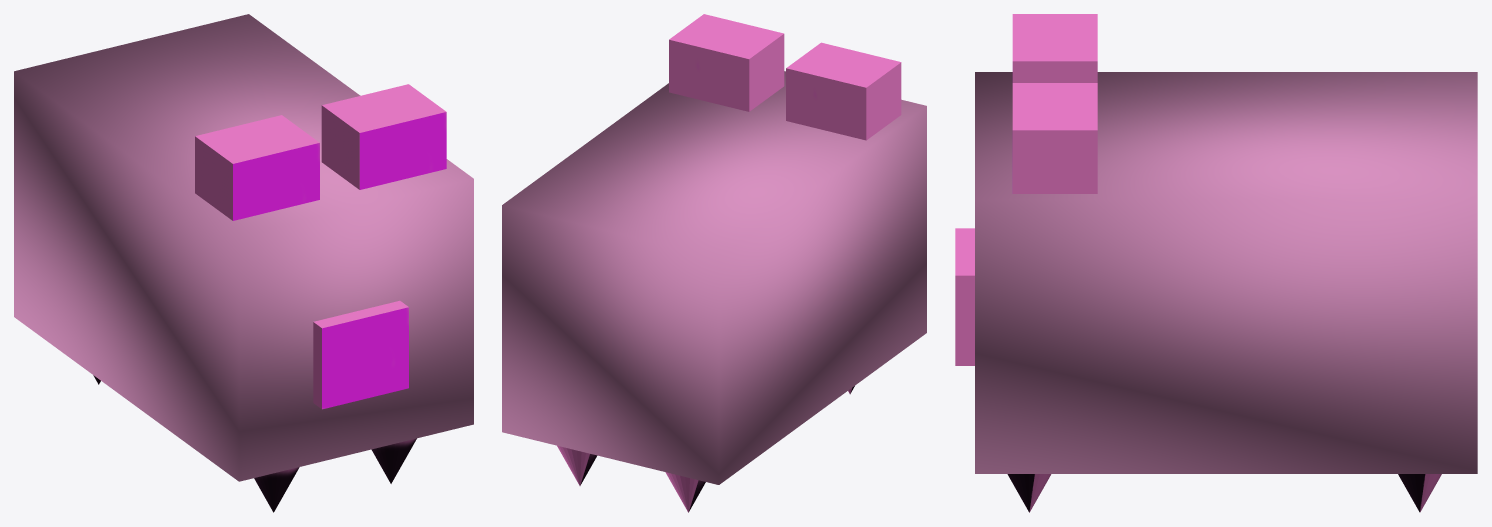
Rendered from enemy.obj.
The picture shows the model from 3 angles, left to right: view 1: azimuth 30°, elevation 25°; view 2: azimuth 150°, elevation 25°; view 3: azimuth 270°, elevation 25°; orthographic projection. The views are drawn at different scales.
Parts seen in each view (by area): view 1: 立方体; view 2: 立方体; view 3: 立方体.
Boxes of the visible parts, x1,y1,x2,y2 form: 立方体: [14, 14, 473, 512]; 立方体: [502, 14, 926, 512]; 立方体: [955, 14, 1477, 512].
Bounding box in the file's own units: 2 × 2.98 × 3.45.
Materials: 1 (1 with a texture image).
